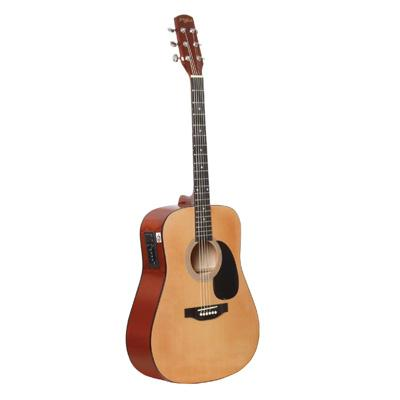guitar: (124, 12, 260, 386)
